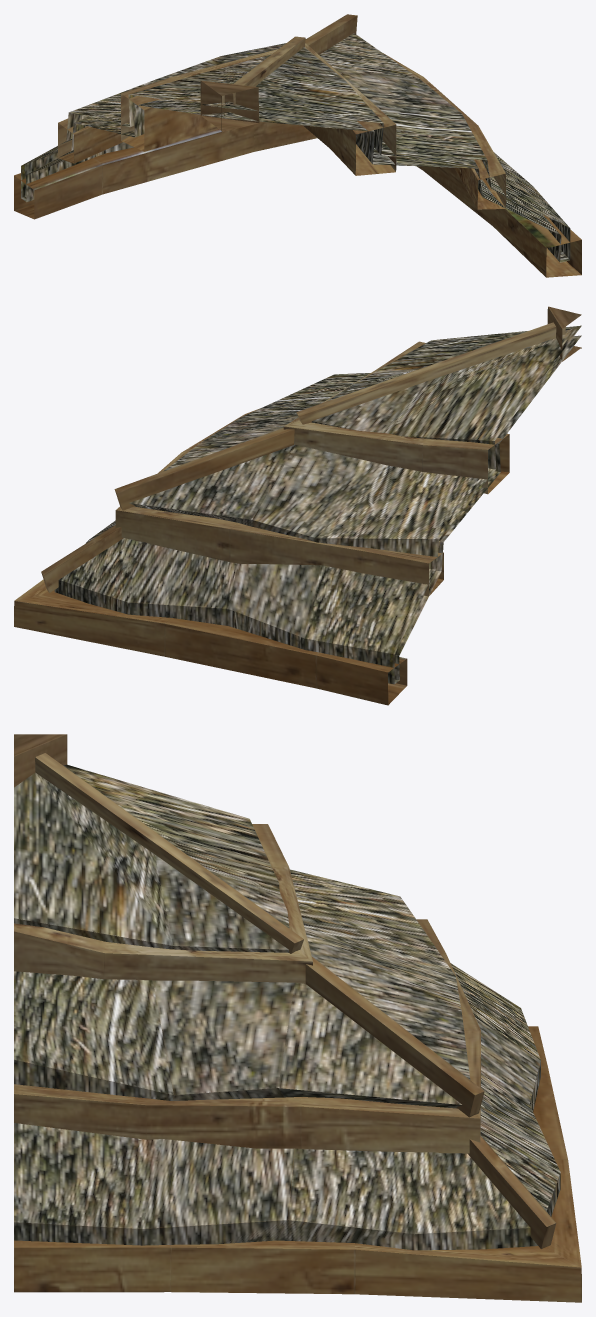
File: House_01_roof_corner.obj
3 renders of one model, top to bottom at view 1: azimuth 30°, elevation 25°; view 2: azimuth 150°, elevation 25°; view 3: azimuth 270°, elevation 25°, orthographic. The views are drawn at different scales.
Visible parts, largest first — view 1: Roof_Corner; view 2: Roof_Corner; view 3: Roof_Corner.
Part boxes in pixels (x1,y1,x2,y2): Roof_Corner: (14,14,581,277); Roof_Corner: (14,306,581,705); Roof_Corner: (14,734,581,1302).
Size of the model in its own units: 2.11 by 1.4 by 2.14.
